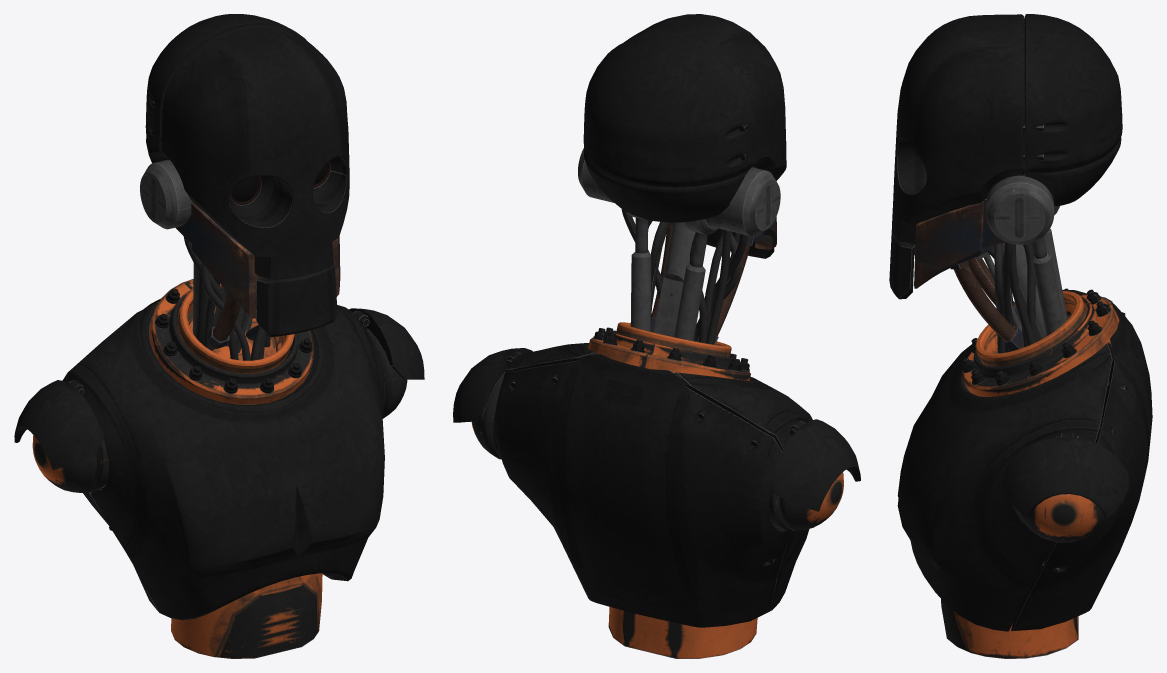
The model's file is robot_copernicus.glb.
The picture shows the model from 3 angles, left to right: view 1: azimuth 30°, elevation 25°; view 2: azimuth 150°, elevation 25°; view 3: azimuth 270°, elevation 25°; orthographic projection.
Visible parts, largest first — view 1: Object_2; view 2: Object_2; view 3: Object_2.
Boxes of the visible parts, bbox=[...] form: Object_2: bbox=[14, 14, 424, 658]; Object_2: bbox=[453, 14, 860, 658]; Object_2: bbox=[889, 14, 1152, 658].
Bounding box in the file's own units: 1.33 × 2 × 0.7905.
1 material, 1 textured.
